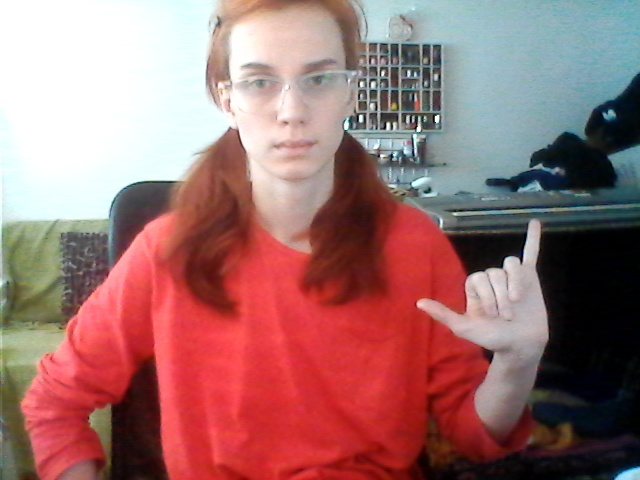kto: (411, 218, 569, 365)
